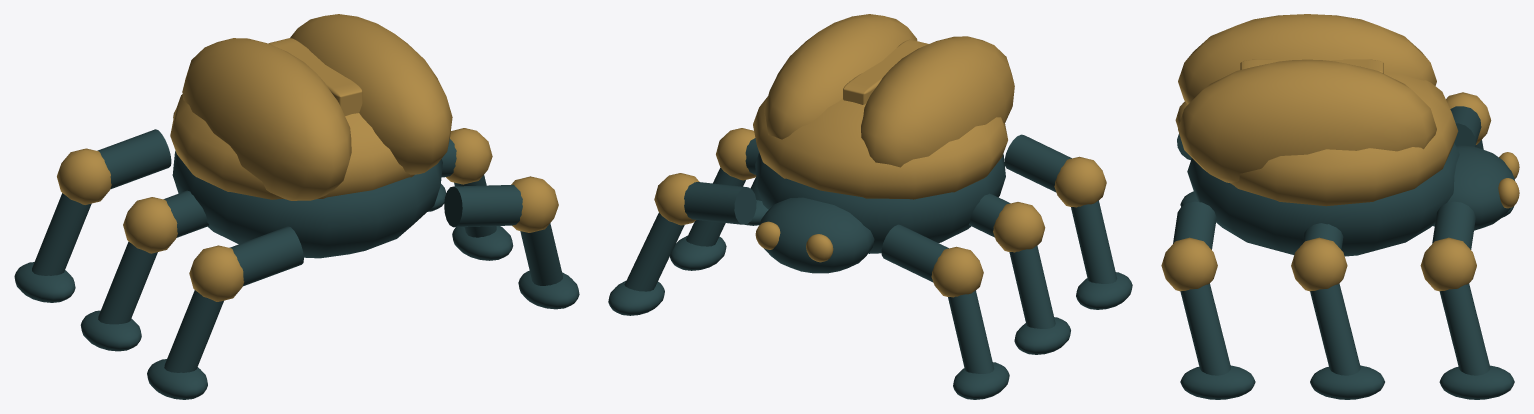
The model's file is beetle.glb.
3 views of the same model, side by side, from view 1: azimuth 30°, elevation 25°; view 2: azimuth 150°, elevation 25°; view 3: azimuth 270°, elevation 25° (orthographic). The views are drawn at different scales.
Parts seen in each view (by area): view 1: rigid-ab8642 (×6), rigid-284548 (×6); view 2: rigid-ab8642 (×6), rigid-284548 (×6); view 3: rigid-ab8642 (×5), rigid-284548 (×5).
Boxes of the visible parts, box(x1,y1,x2,y2) form: rigid-ab8642 (×6): box(57, 14, 558, 301); rigid-284548 (×6): box(14, 129, 579, 399); rigid-ab8642 (×6): box(654, 14, 1106, 297); rigid-284548 (×6): box(608, 134, 1132, 399); rigid-ab8642 (×5): box(1161, 14, 1519, 291); rigid-284548 (×5): box(1173, 106, 1514, 399).
Size of the model in its own units: 2.01 by 1.24 by 1.52.
